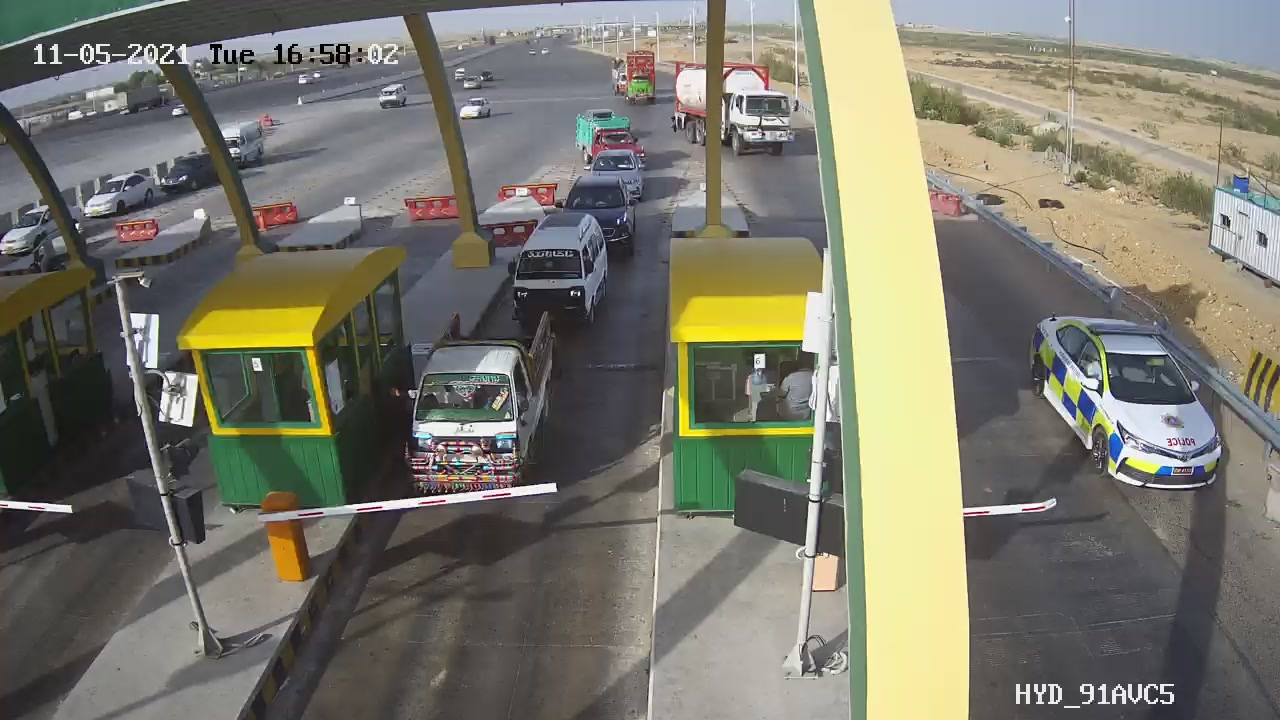F1: (391, 313, 577, 496), (497, 198, 623, 341)
